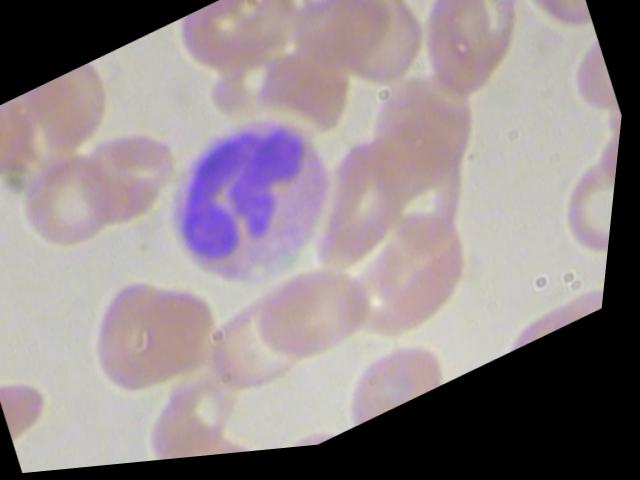Platelets: (0, 237, 14, 303)
Red Blood Cells: (67, 260, 214, 419), (245, 249, 395, 387), (66, 105, 207, 242), (1, 138, 141, 275), (399, 0, 546, 122), (542, 156, 622, 291)
White Blood Cells: (142, 92, 371, 328)
